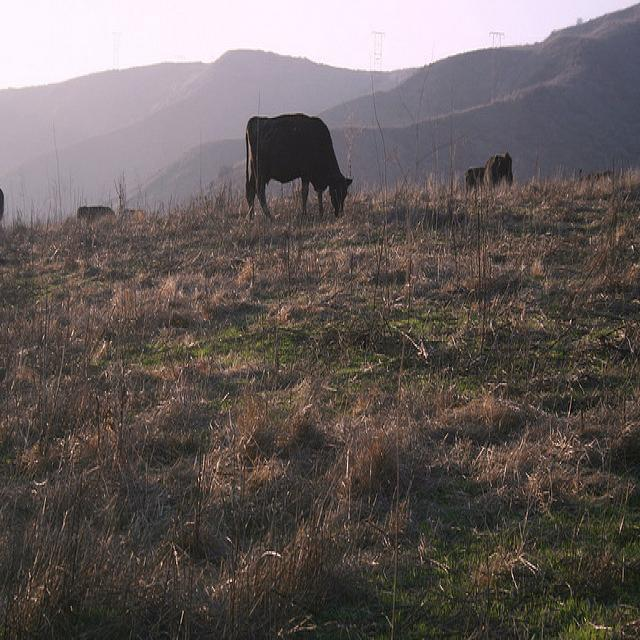cow: (245, 110, 352, 220), (481, 151, 512, 185), (463, 165, 483, 199), (75, 204, 114, 218), (0, 188, 3, 218)
